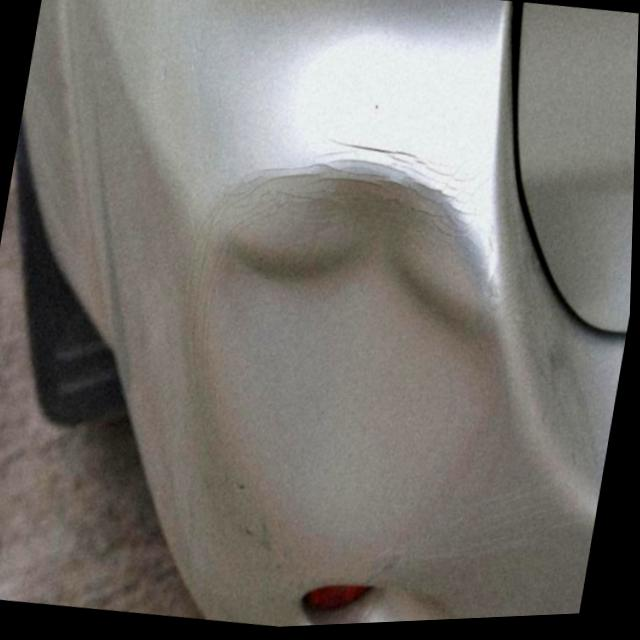Dent: (186, 161, 506, 566)
